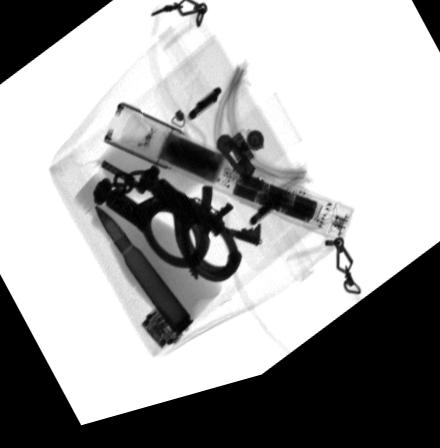Baton: (104, 108, 358, 263)
Bullet: (94, 209, 195, 347)
Gun: (101, 164, 259, 262)
HandCuffs: (91, 173, 242, 296)
